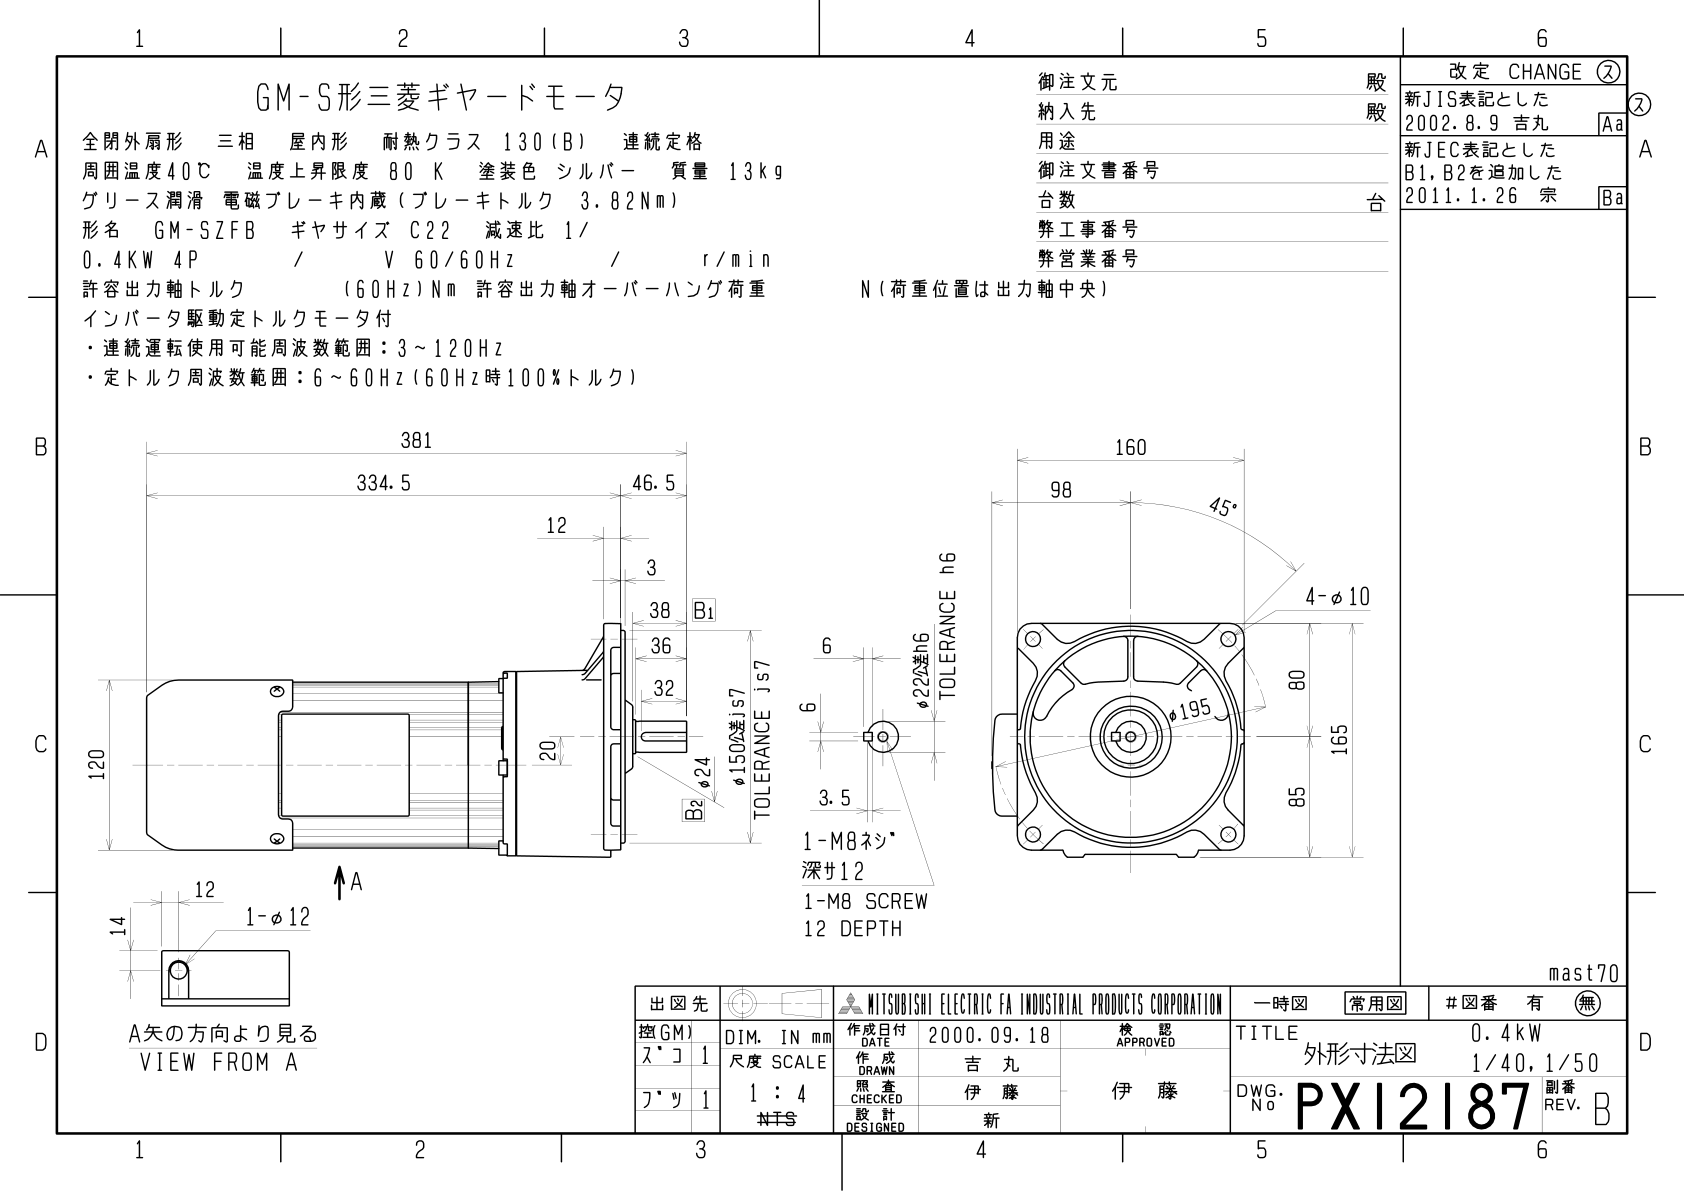GM_S_インバタ屋内＿三相_フランジ: (6, 10, 1674, 1183)
